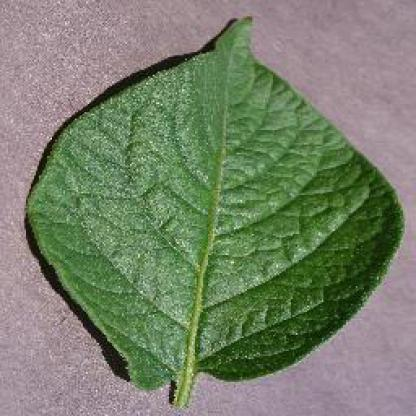good leaf: (25, 19, 404, 386)
